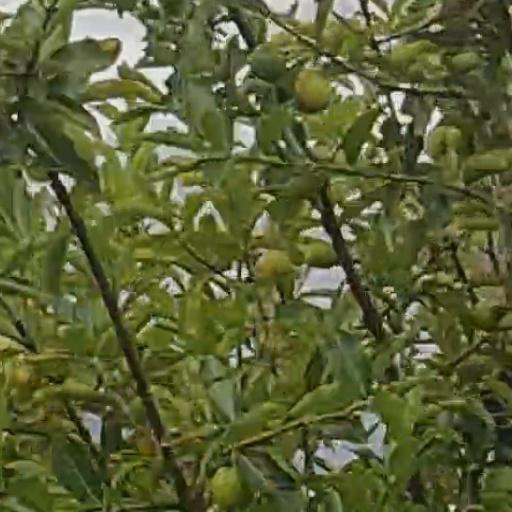acerola: (296, 68, 330, 114), (211, 466, 248, 507)
